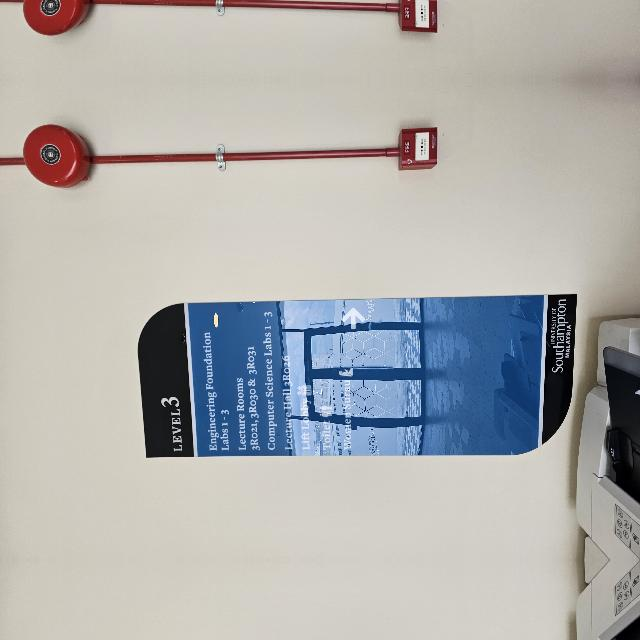obstacle: (4, 400, 266, 460)
